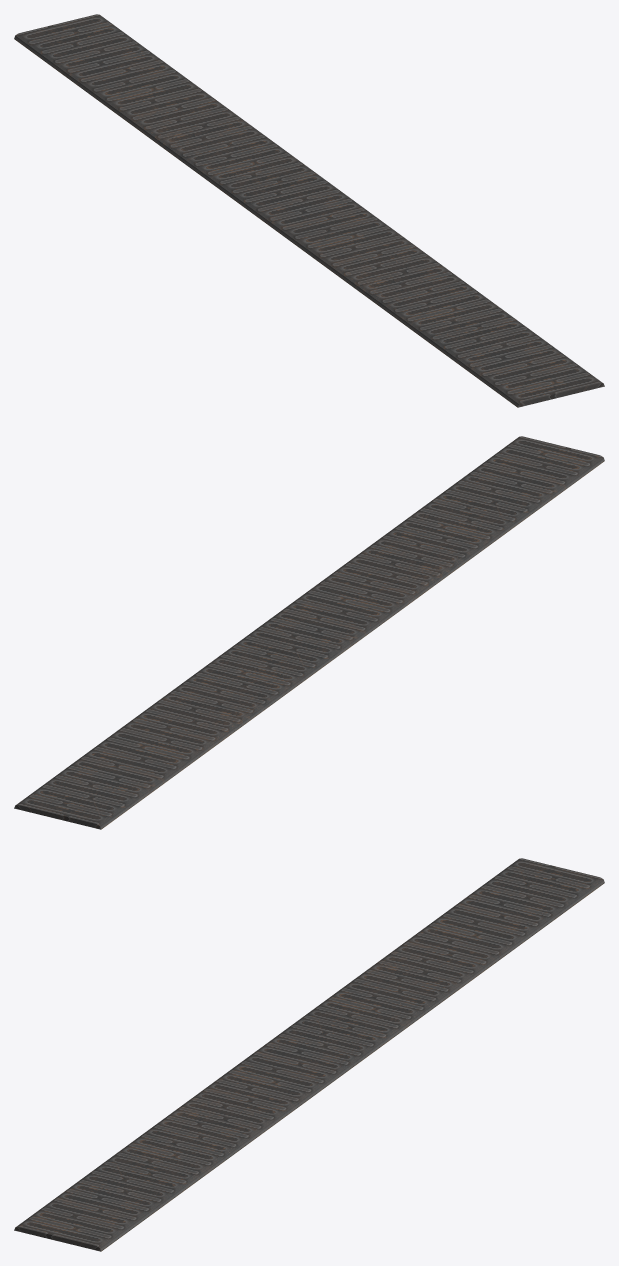
The model's file is SM_Decal_Drain_300_A.fbx.
The picture shows the model from 3 angles, top to bottom: view 1: azimuth 30°, elevation 25°; view 2: azimuth 150°, elevation 25°; view 3: azimuth 330°, elevation 25°; orthographic projection.
Visible parts, largest first — view 1: SM_Decal_Drain_300_A_LOD0; view 2: SM_Decal_Drain_300_A_LOD0; view 3: SM_Decal_Drain_300_A_LOD0.
Part boxes in pixels (x1,y1,x2,y2): SM_Decal_Drain_300_A_LOD0: [14, 14, 604, 407]; SM_Decal_Drain_300_A_LOD0: [14, 436, 604, 829]; SM_Decal_Drain_300_A_LOD0: [14, 858, 604, 1251].
Size of the model in its own units: 30 by 300 by 1.5.
Materials: 1 (1 with a texture image).
